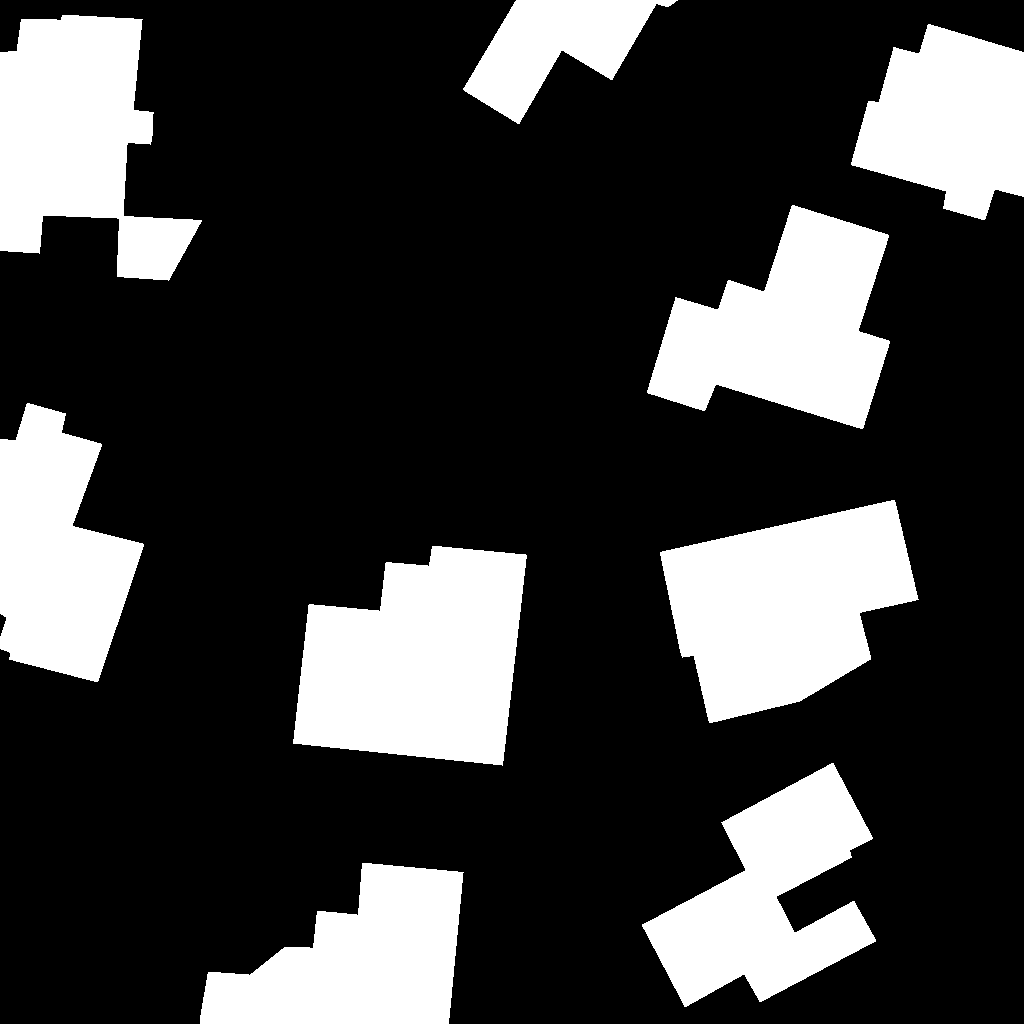building: (660, 500, 919, 724), (642, 763, 877, 1008), (647, 205, 891, 430), (0, 15, 203, 281), (293, 546, 528, 766), (200, 863, 464, 1024), (0, 403, 145, 683), (851, 24, 1024, 221), (463, 0, 679, 125)
